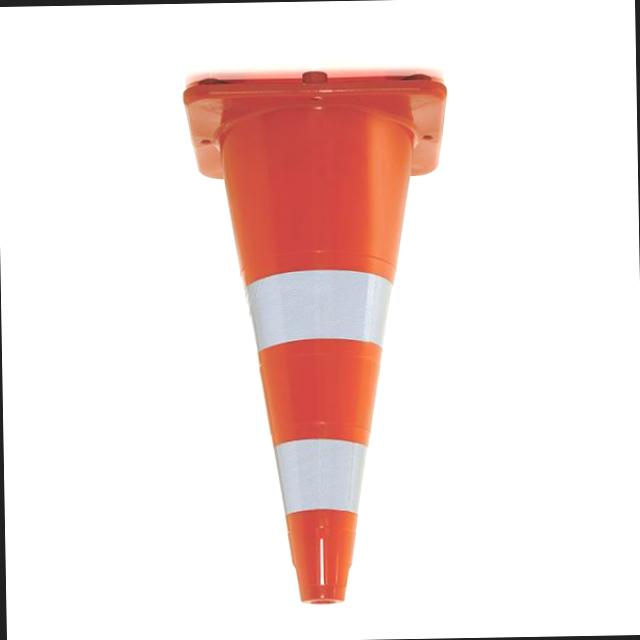cone: (175, 72, 459, 606)
